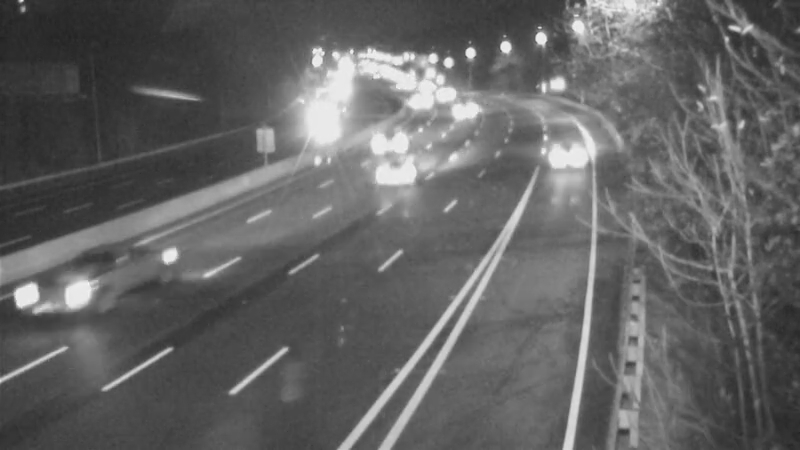vehicle: (517, 112, 597, 192), (354, 132, 434, 212), (11, 259, 91, 339), (421, 65, 471, 115), (386, 76, 436, 126), (441, 81, 491, 131), (364, 117, 414, 167), (298, 102, 348, 152)
